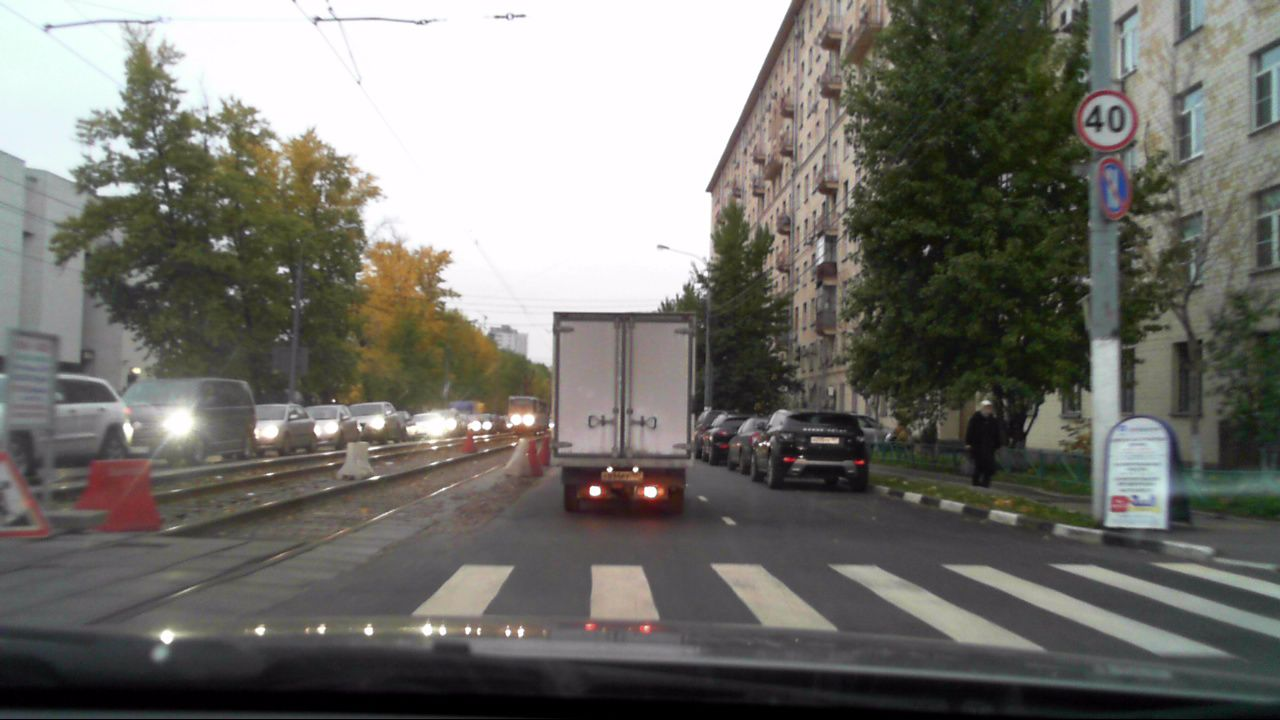speed_warning_40: (1076, 89, 1139, 151)
